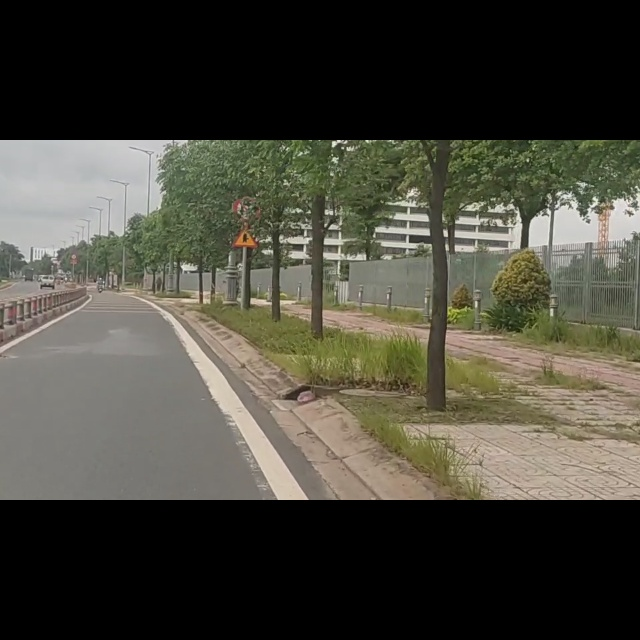bien_nguy_hiem: (230, 154, 259, 192)
